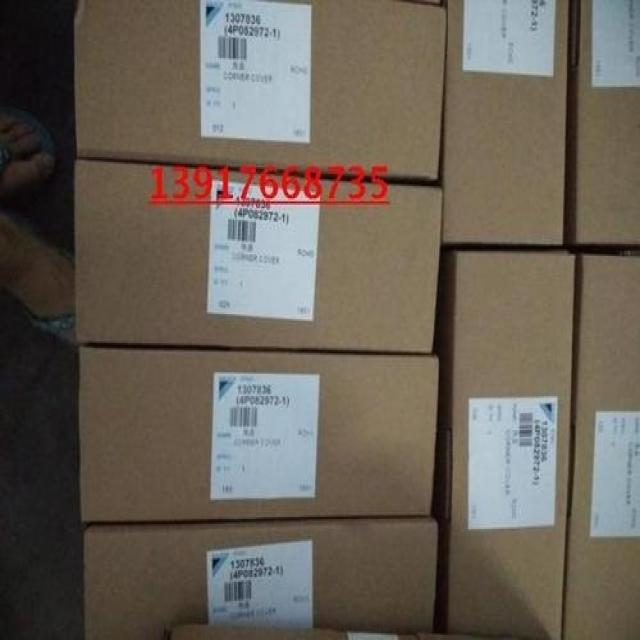box: (76, 161, 442, 353), (74, 0, 446, 181), (79, 346, 439, 520), (442, 251, 575, 638), (84, 516, 438, 638), (442, 0, 568, 245), (563, 254, 639, 638), (565, 0, 639, 244)
